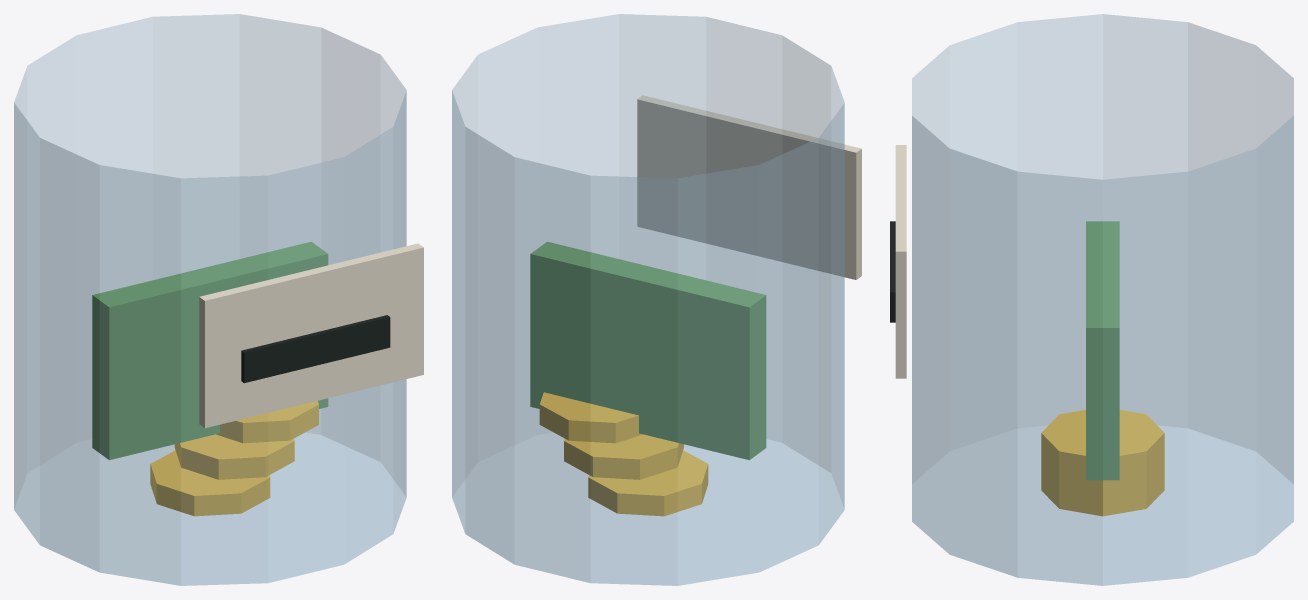
File: tip_jar.obj
The picture shows the model from 3 angles, left to right: view 1: azimuth 30°, elevation 25°; view 2: azimuth 150°, elevation 25°; view 3: azimuth 270°, elevation 25°; orthographic projection.
Visible parts, largest first — view 1: tip_jar; view 2: tip_jar; view 3: tip_jar.
Boxes of the visible parts, <box> form: tip_jar: <box>14,14,423,585</box>; tip_jar: <box>452,14,861,585</box>; tip_jar: <box>890,14,1293,585</box>.
Bounding box in the file's own units: 0.14 × 0.16 × 0.1442.
